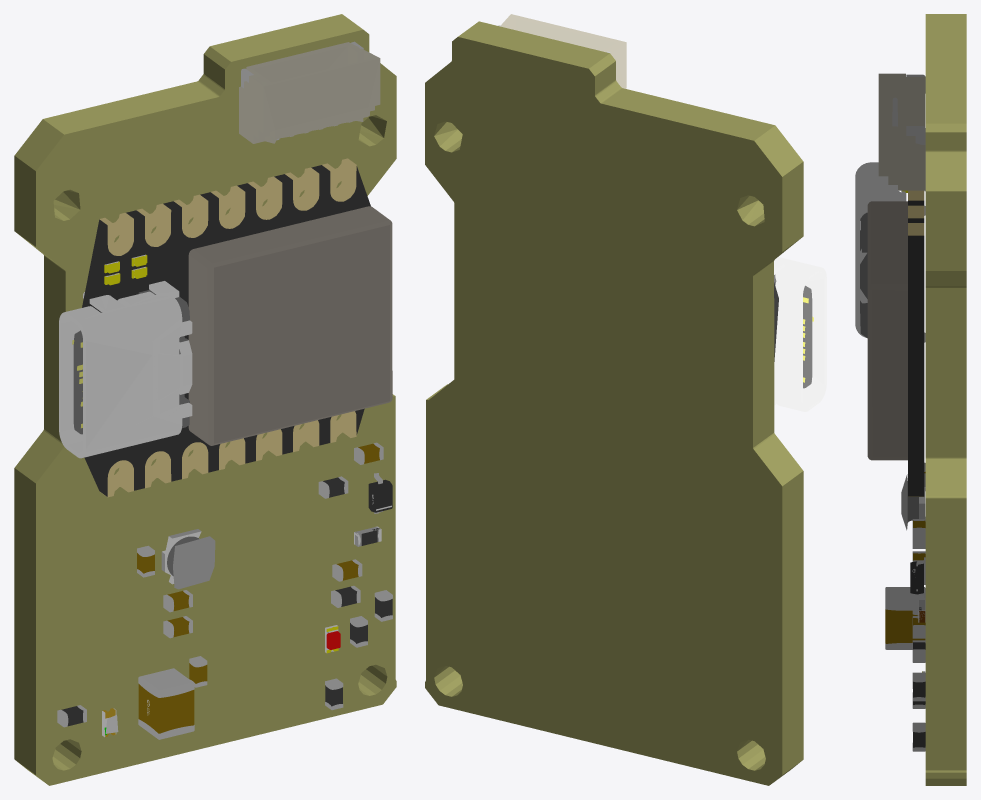
File: OBJ_QtFOC.obj
3 renders of one model, left to right at view 1: azimuth 30°, elevation 25°; view 2: azimuth 150°, elevation 25°; view 3: azimuth 270°, elevation 25°, orthographic. The views are drawn at different scales.
Bounding box in the file's own units: 97.3 × 175 × 27.13.
